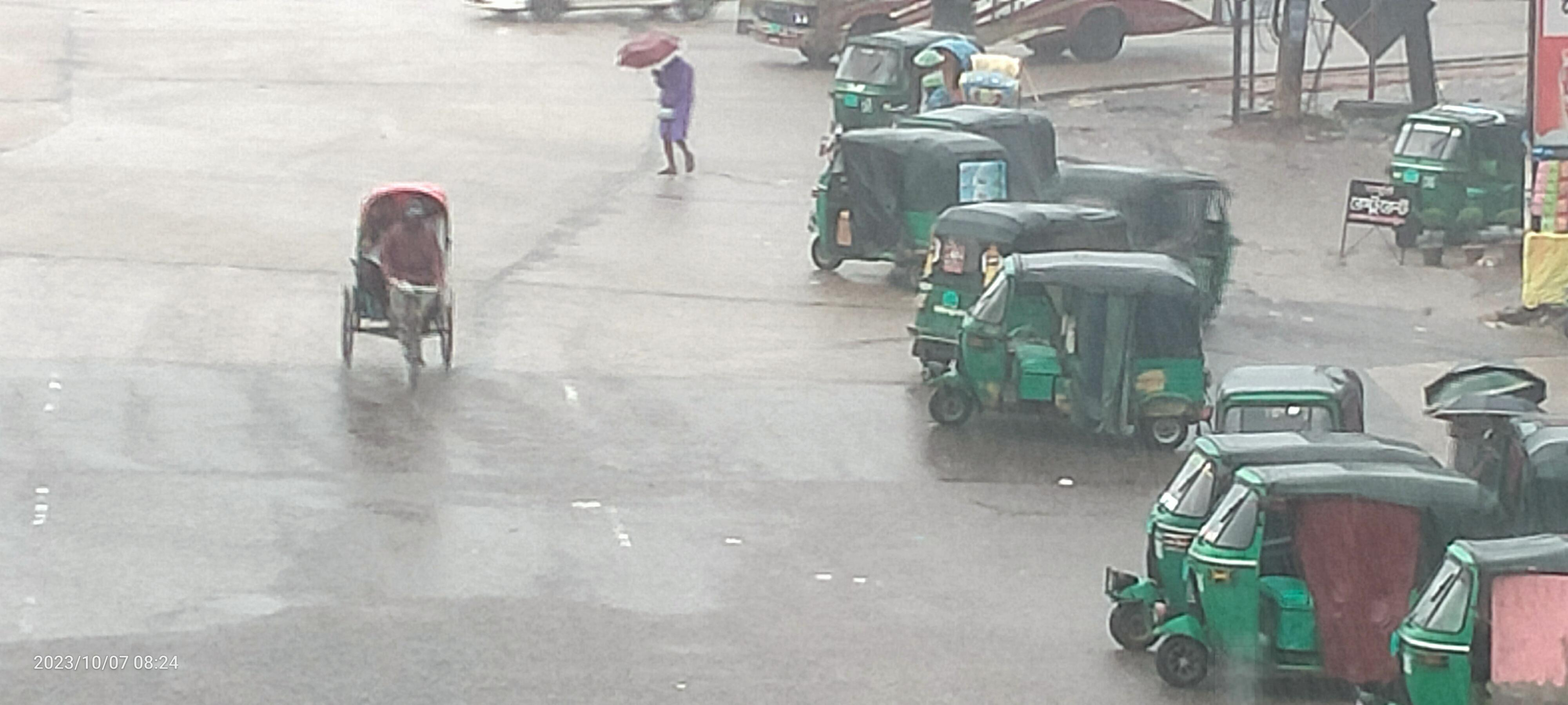Car: (317, 158, 492, 404)
